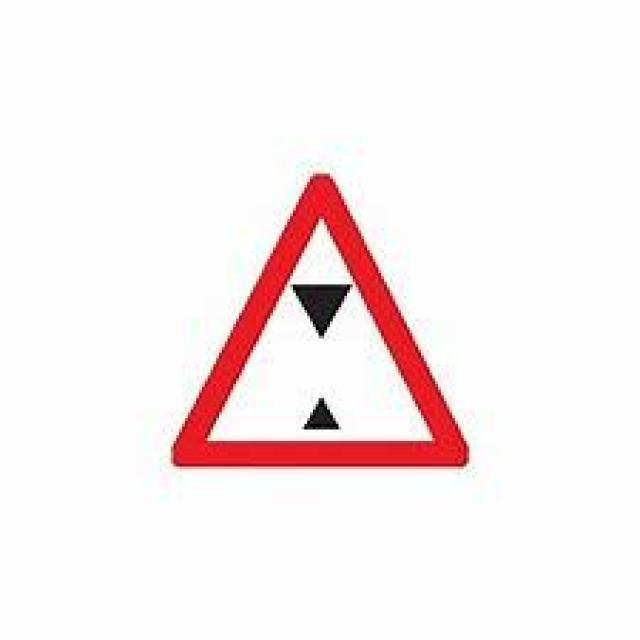height limit: (175, 174, 469, 469)
